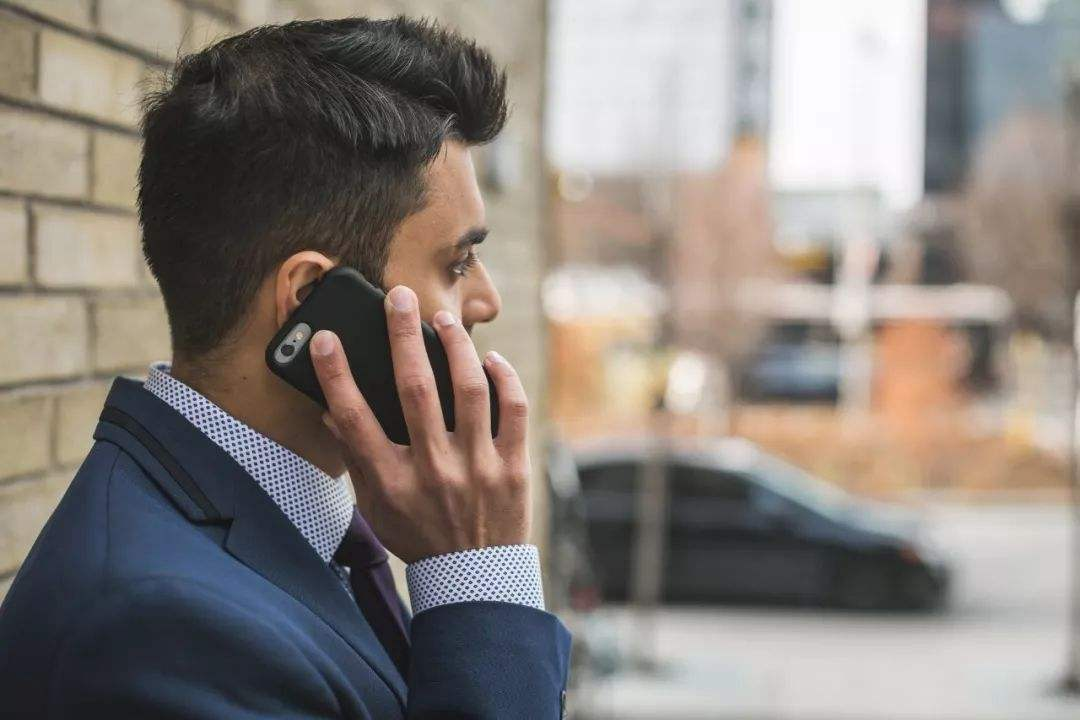calling: (259, 263, 541, 556)
